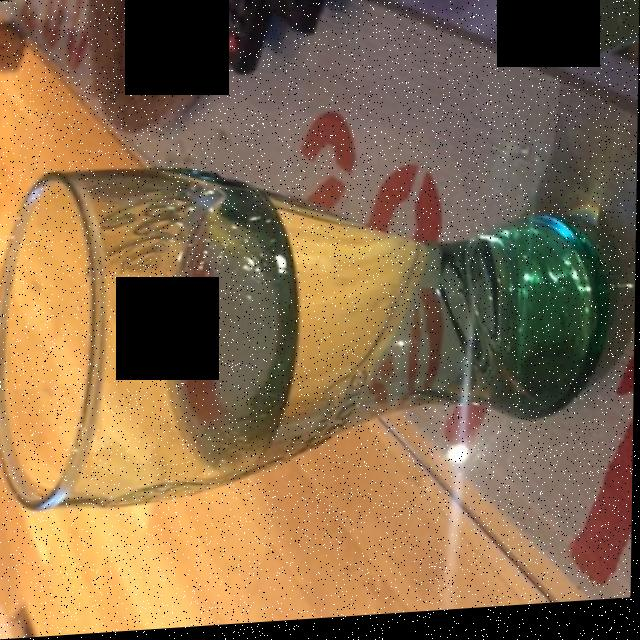water: (173, 194, 579, 477)
